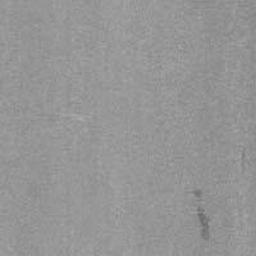Inclusion: (192, 188, 211, 242)
